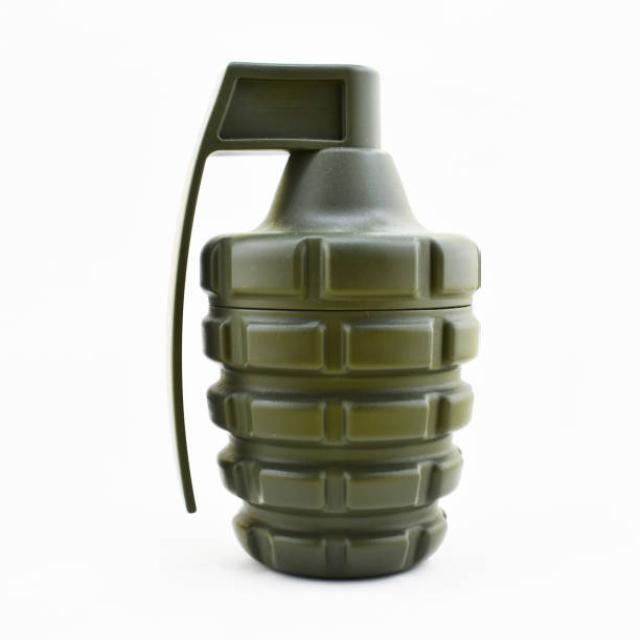grenade: (166, 46, 490, 587)
